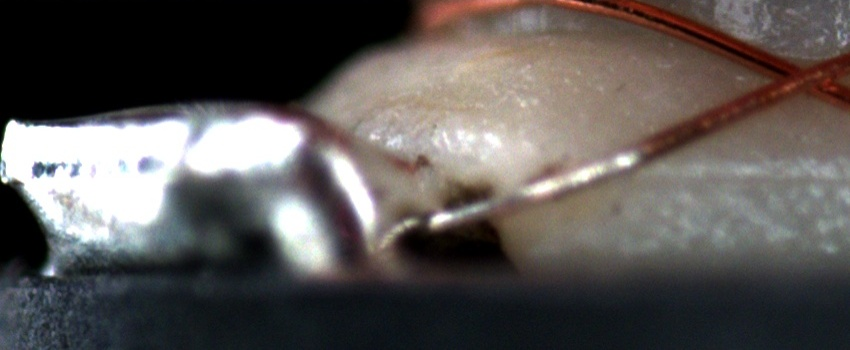CL: (754, 47, 842, 105)
DL: (630, 147, 850, 211)
TS: (427, 147, 644, 233)
